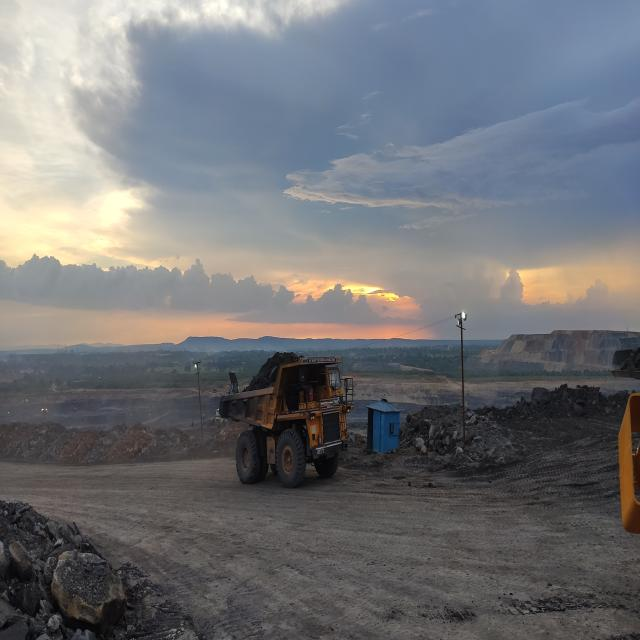dump_truck: (220, 356, 354, 489)
